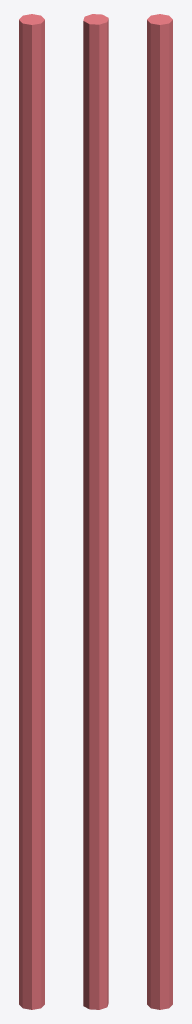
File: SFFA_Forge_Prop_String.fbx
3 renders of one model, left to right at view 1: azimuth 90°, elevation 25°; view 2: azimuth 150°, elevation 25°; view 3: azimuth 270°, elevation 25°, orthographic.
Parts seen in each view (by area): view 1: SFFA_Forge_Prop_String; view 2: SFFA_Forge_Prop_String; view 3: SFFA_Forge_Prop_String.
Boxes of the visible parts, box(x1,y1,x2,y2) form: SFFA_Forge_Prop_String: box(19, 14, 44, 1009); SFFA_Forge_Prop_String: box(83, 14, 108, 1009); SFFA_Forge_Prop_String: box(147, 14, 172, 1009).
Bounding box in the file's own units: 2.24 × 92.88 × 2.24.
